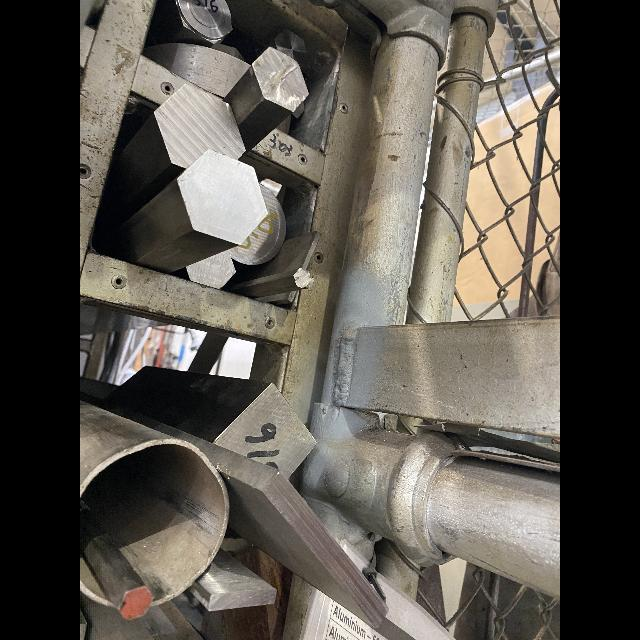Stainless Steel: (116, 407, 389, 629), (80, 399, 229, 605), (110, 365, 317, 480), (116, 82, 247, 225), (124, 148, 267, 272), (224, 46, 309, 150), (81, 504, 152, 619), (145, 43, 251, 97), (190, 549, 276, 611), (229, 184, 286, 265), (245, 231, 321, 278), (173, 0, 233, 46), (227, 268, 312, 297), (187, 251, 236, 288), (80, 558, 115, 606), (274, 30, 307, 64), (210, 43, 247, 63)
